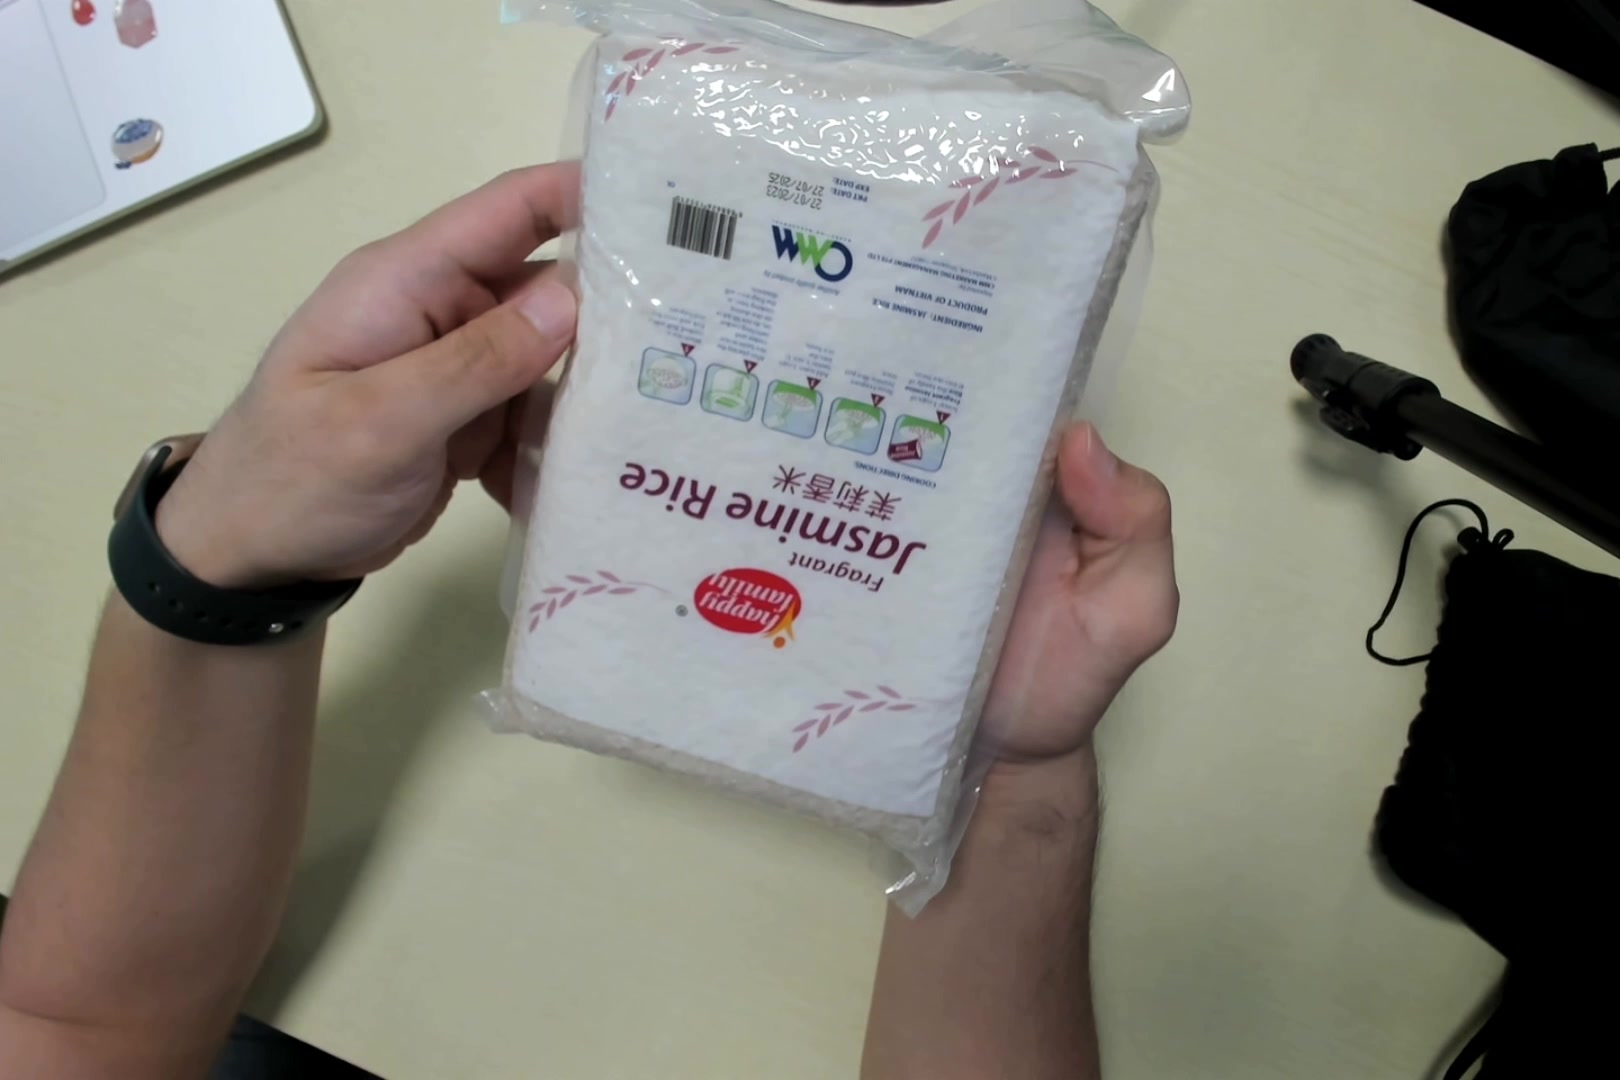Rice(White)_1000-1999g_NonHalal_NonHealthy: (511, 4, 1169, 845)
